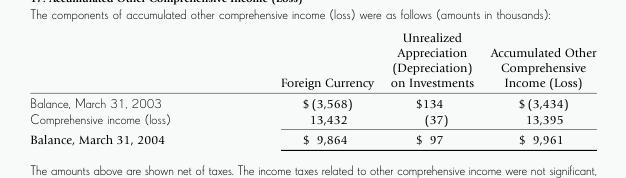table: (29, 29, 595, 146)
table column: (29, 29, 224, 146), (224, 29, 381, 146), (481, 29, 595, 146), (381, 29, 481, 146)
table column header: (29, 29, 595, 92)
table row: (29, 29, 595, 92), (29, 110, 595, 129), (29, 92, 595, 110), (29, 129, 595, 146)
